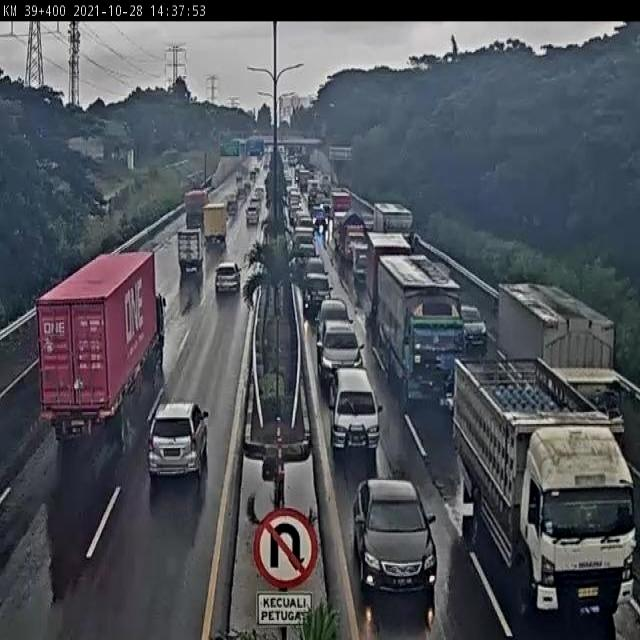Car: (350, 480, 438, 598), (147, 400, 207, 481), (316, 321, 362, 398), (302, 264, 332, 315), (314, 298, 354, 336), (459, 306, 488, 358), (214, 261, 242, 294), (246, 205, 260, 224), (248, 197, 262, 211), (237, 187, 247, 198), (254, 187, 264, 197)
Truck: (452, 353, 640, 619), (34, 248, 168, 439), (494, 278, 626, 442), (376, 252, 464, 404), (364, 228, 413, 316), (371, 202, 419, 250), (341, 209, 366, 263), (176, 226, 203, 274), (182, 187, 211, 229), (202, 202, 230, 244), (331, 192, 351, 228), (352, 243, 368, 285)
Van: (329, 367, 381, 462)
